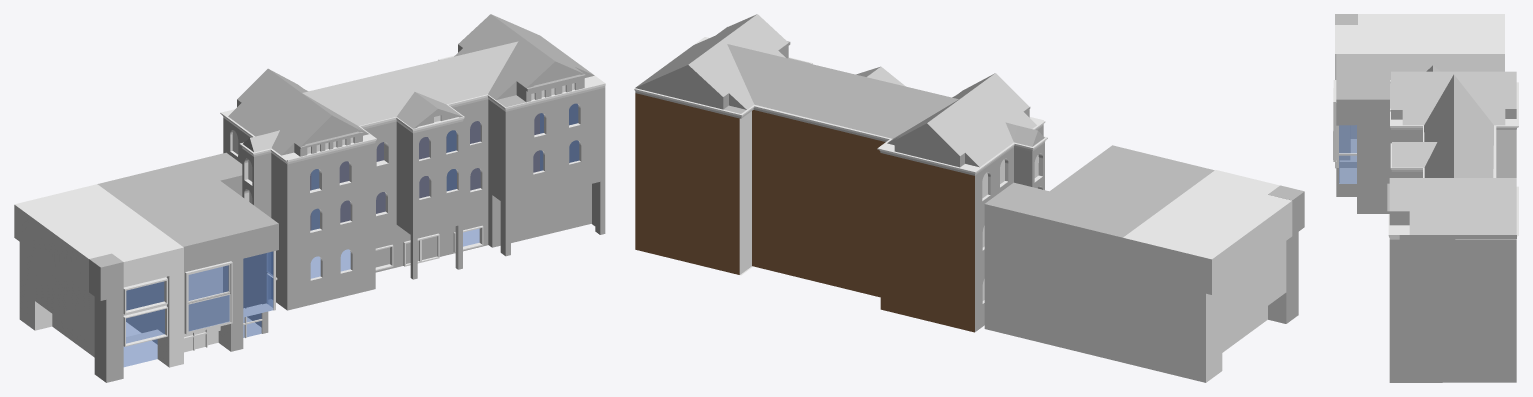
3 renders of one model, left to right at view 1: azimuth 30°, elevation 25°; view 2: azimuth 150°, elevation 25°; view 3: azimuth 270°, elevation 25°, orthographic. The views are drawn at different scales.
Parts seen in each view (by area): view 1: Mesh2 Model, Mesh3 Model; view 2: Mesh2 Model, Mesh3 Model; view 3: Mesh2 Model, Mesh3 Model.
Boxes of the visible parts, box(x1,y1,x2,y2) form: Mesh2 Model: box(220, 14, 605, 310); Mesh3 Model: box(14, 152, 278, 382); Mesh2 Model: box(634, 14, 1047, 332); Mesh3 Model: box(984, 145, 1304, 382); Mesh2 Model: box(1387, 65, 1518, 382); Mesh3 Model: box(1333, 14, 1504, 213).
Bounding box in the file's own units: 80.21 × 26.76 × 24.71.
